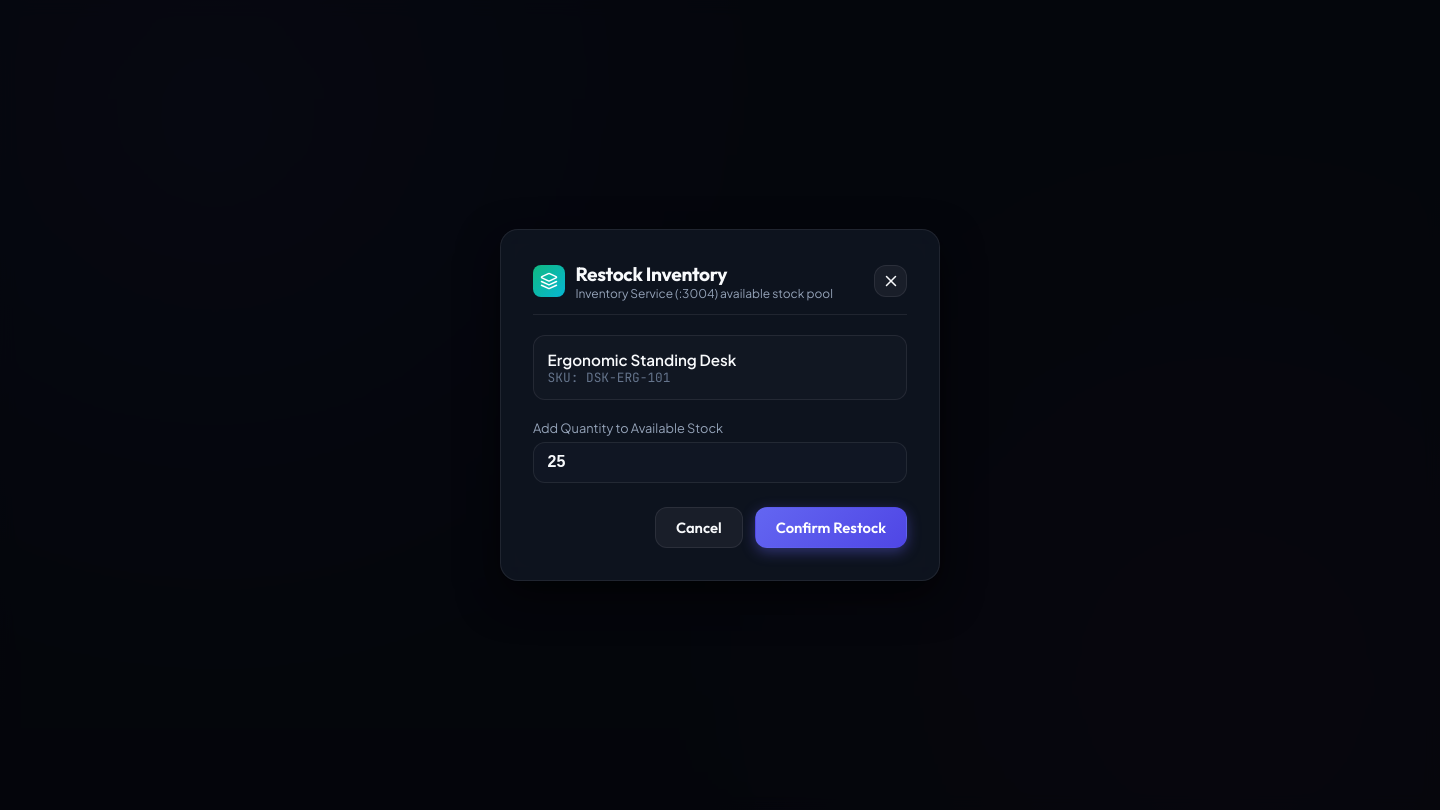
Test: RestockModal Component › should display error message when restock API fails
Click the button "Confirm Restock": (831, 528) [755, 507, 907, 548]
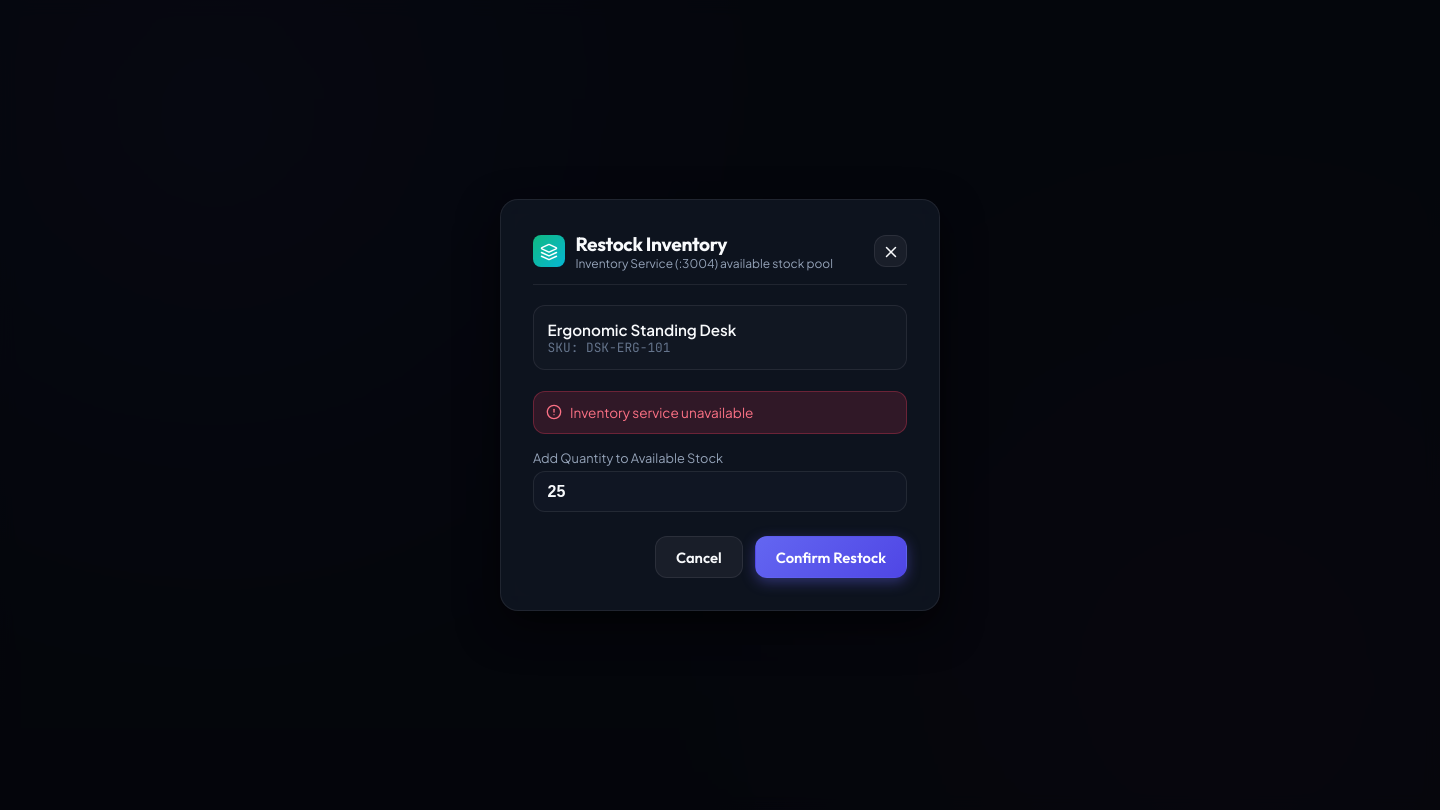
Check: the text "Inventory service unavailable" is shown, box [570, 404, 753, 421]
